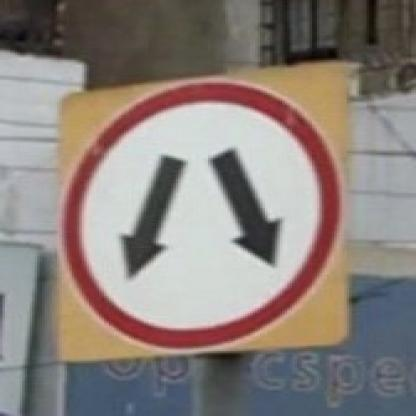Road Divides: (53, 62, 349, 362)
